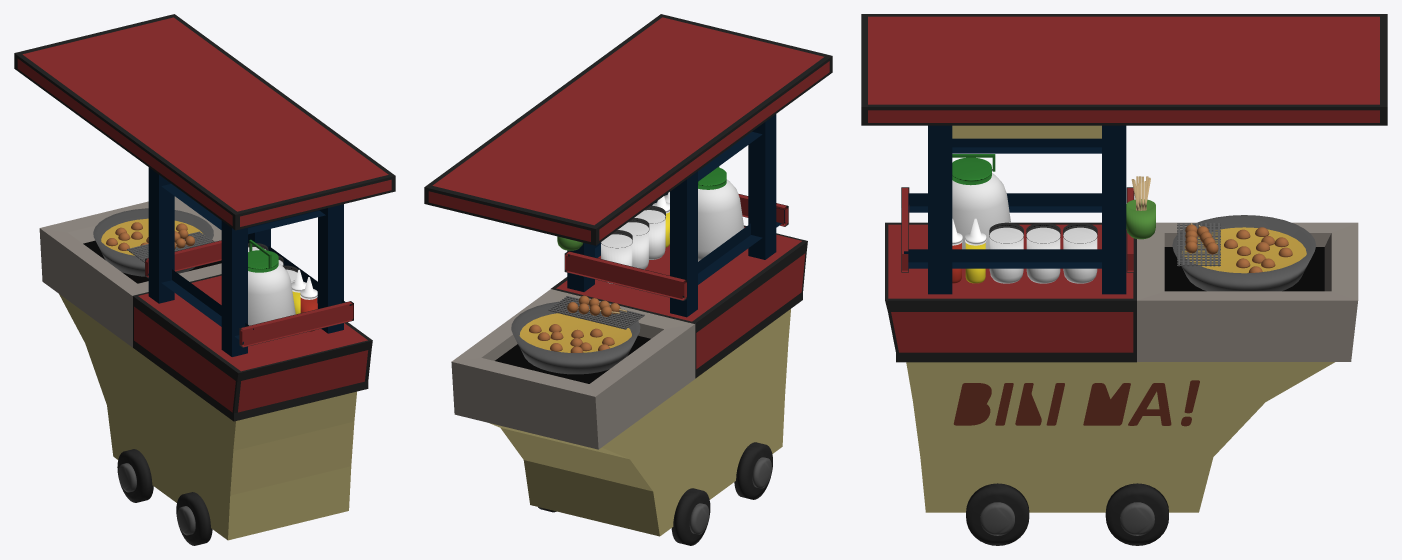
File: Fishball vendor.fbx
3 renders of one model, left to right at view 1: azimuth 30°, elevation 25°; view 2: azimuth 150°, elevation 25°; view 3: azimuth 270°, elevation 25°, orthographic. The views are drawn at different scales.
Parts seen in each view (by area): view 1: Fishball vendor; view 2: Fishball vendor; view 3: Fishball vendor.
Boxes of the visible parts, <box> form: Fishball vendor: <box>14,14,395,545</box>; Fishball vendor: <box>424,14,832,545</box>; Fishball vendor: <box>861,14,1387,545</box>.
Bounding box in the file's own units: 141 × 313 × 336.
